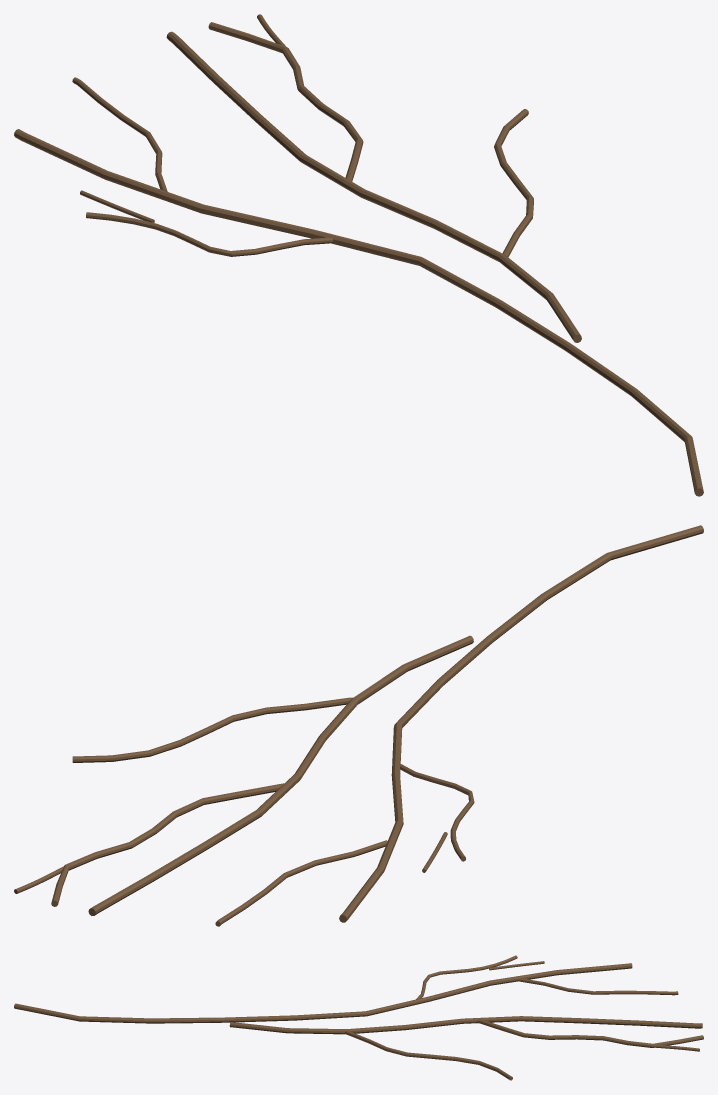
The picture shows the model from 3 angles, top to bottom: view 1: azimuth 30°, elevation 25°; view 2: azimuth 150°, elevation 25°; view 3: azimuth 270°, elevation 25°; orthographic projection. The views are drawn at different scales.
Parts seen in each view (by area): view 1: pasted__pasted__pasted__pasted__pasted__pasted__pasted__pCyl; view 2: pasted__pasted__pasted__pasted__pasted__pasted__pasted__pCyl; view 3: pasted__pasted__pasted__pasted__pasted__pasted__pasted__pCyl.
Boxes of the visible parts, x1,y1,x2,y2 form: pasted__pasted__pasted__pasted__pasted__pasted__pasted__pCyl: (14,14,703,496); pasted__pasted__pasted__pasted__pasted__pasted__pasted__pCyl: (14,525,703,926); pasted__pasted__pasted__pasted__pasted__pasted__pasted__pCyl: (14,955,703,1080).
Size of the model in its own units: 12.63 by 0.2389 by 30.05.
